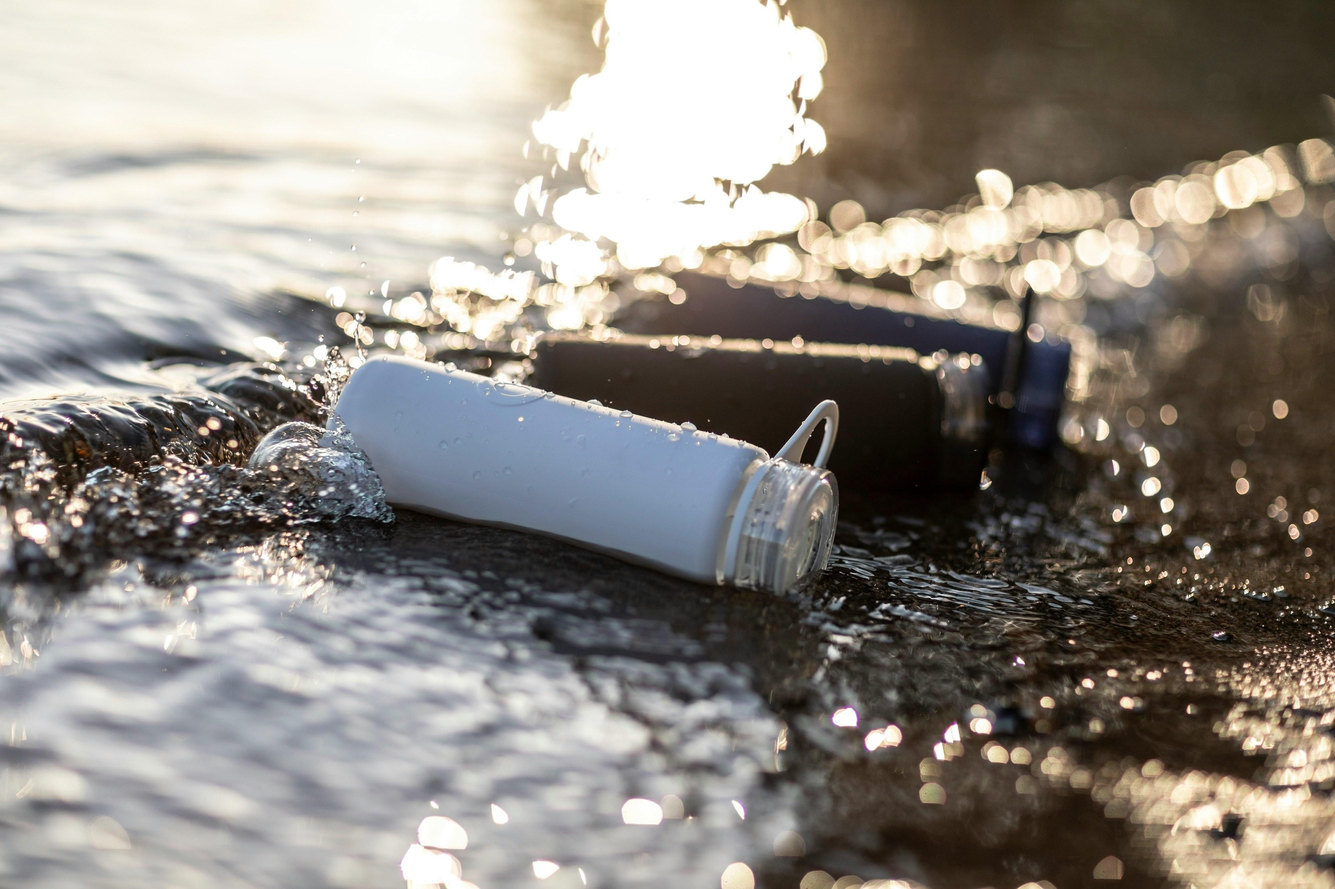Bottle-Detection: (302, 335, 898, 627), (612, 258, 1103, 452), (521, 317, 1005, 504)
